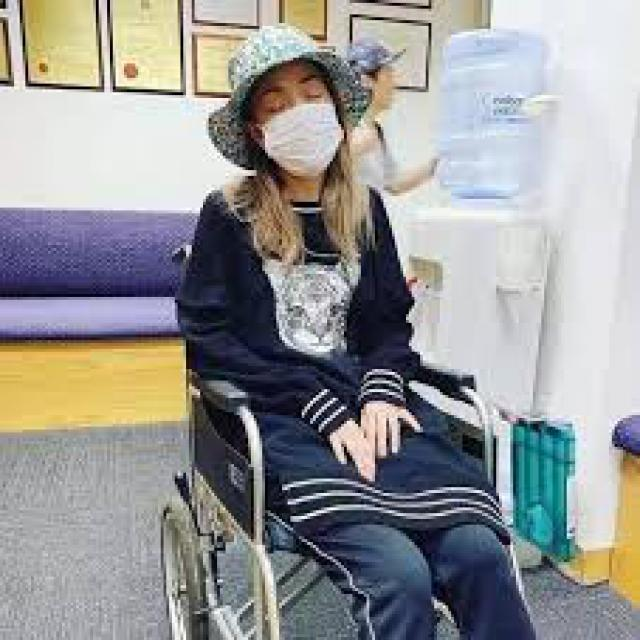wheelchairs: (161, 193, 533, 637)
